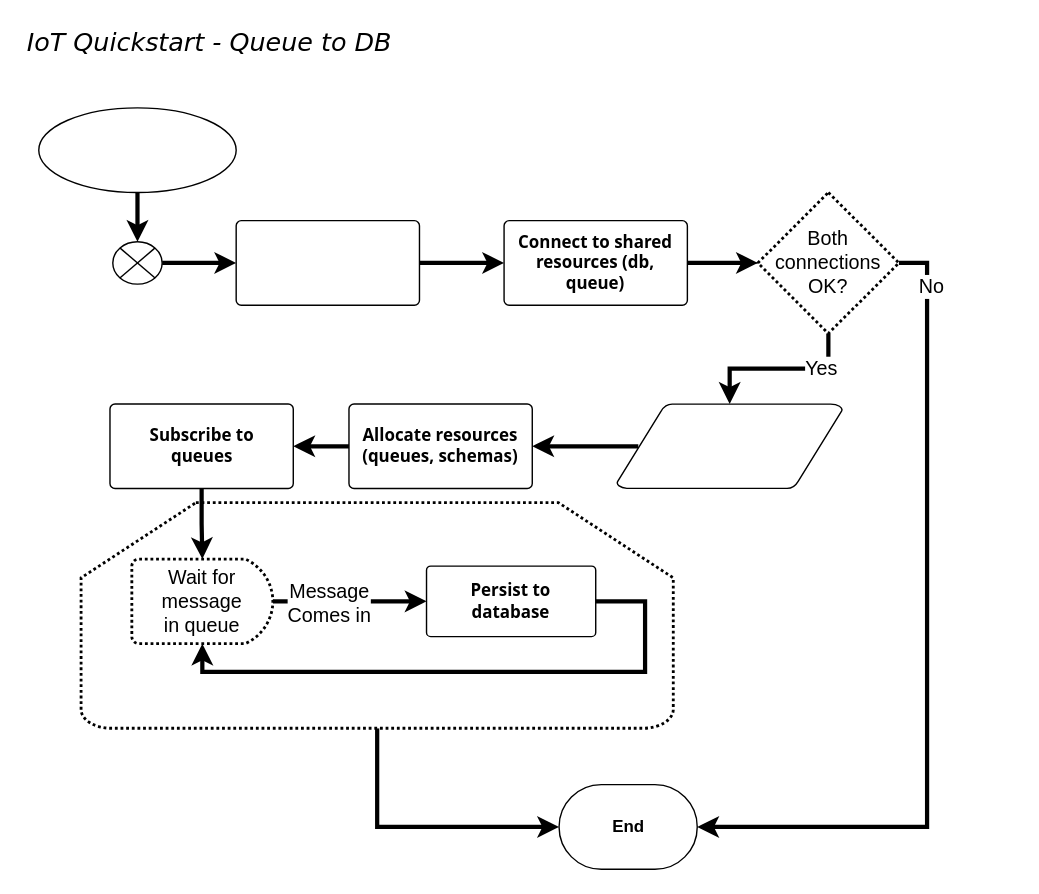
The diagram is 1039 pixels wide and 894 high, and some of its shapes have lost their labels. The shapes that lost their labels are listed below. From the top down, each one's centre as x and y in pixels, then its label:
At pixel 136 149: "OS process started".
At pixel 327 262: "Parse env. variables for runtime configuration (db, queue)".
At pixel 728 446: "Fetch Micro Service definitions from root db".
